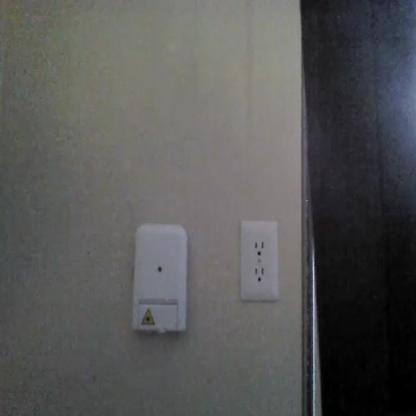OUTLET: (240, 220, 280, 299)
